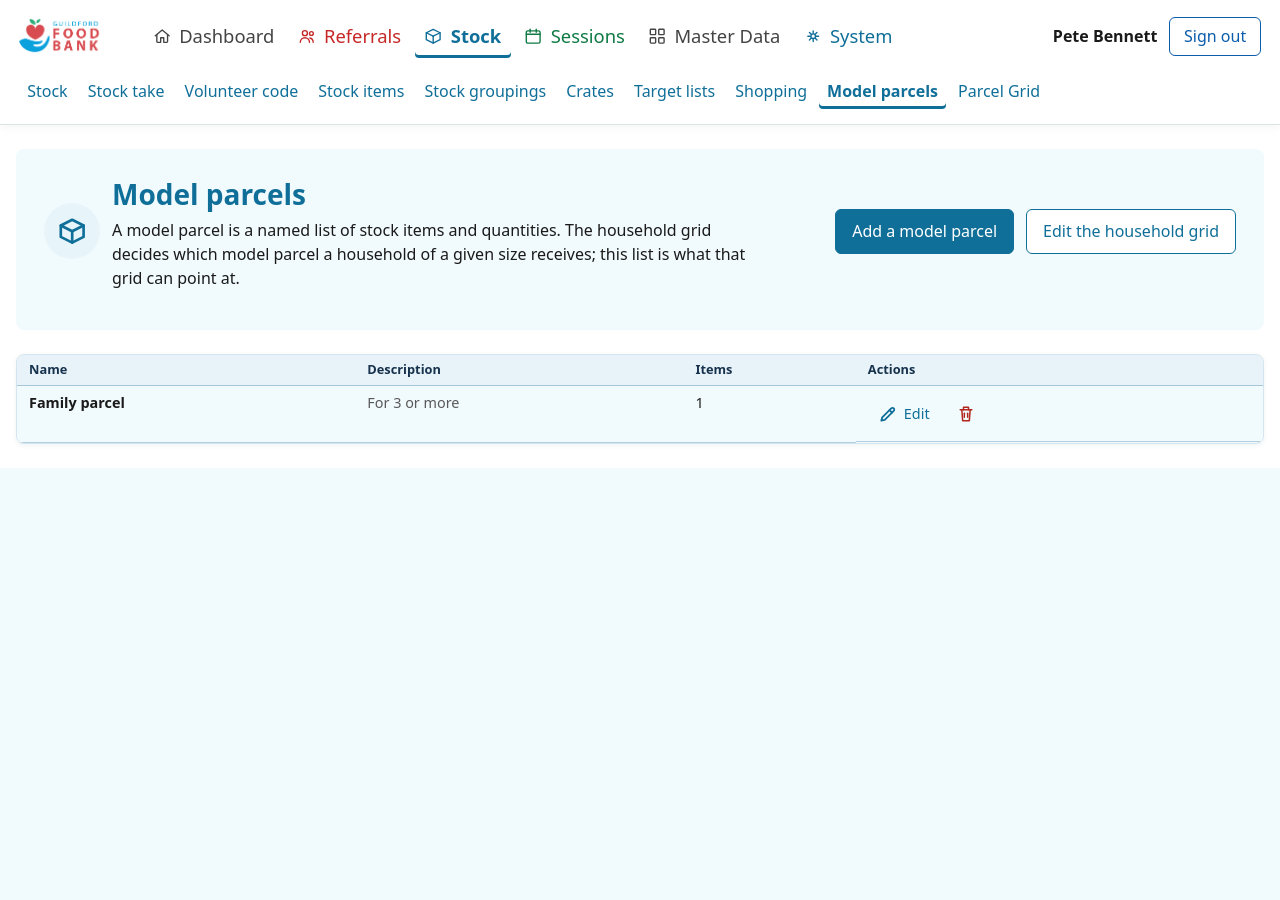
Scenario: the model parcels list › shows the server’s refusal verbatim when the grid still uses the parcel
This screenshot has width=1280, height=900.
Expected: the column heading "Family parcel" is shown, [17, 386, 355, 442]
Click the button named "Delete Family parcel".
click(966, 414)  # box [944, 392, 988, 436]
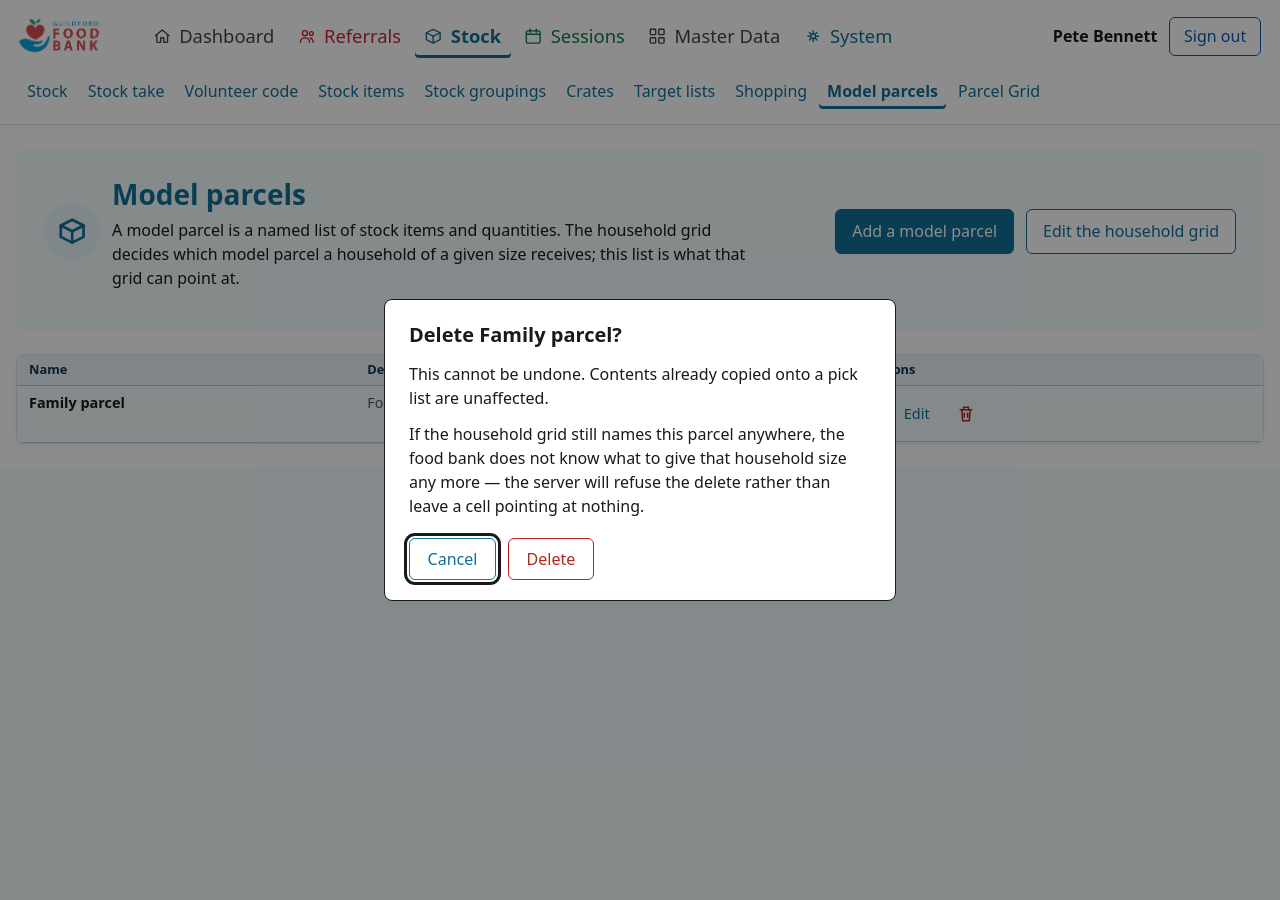
Click the button "Delete".
click(551, 559)  # box [508, 538, 594, 580]
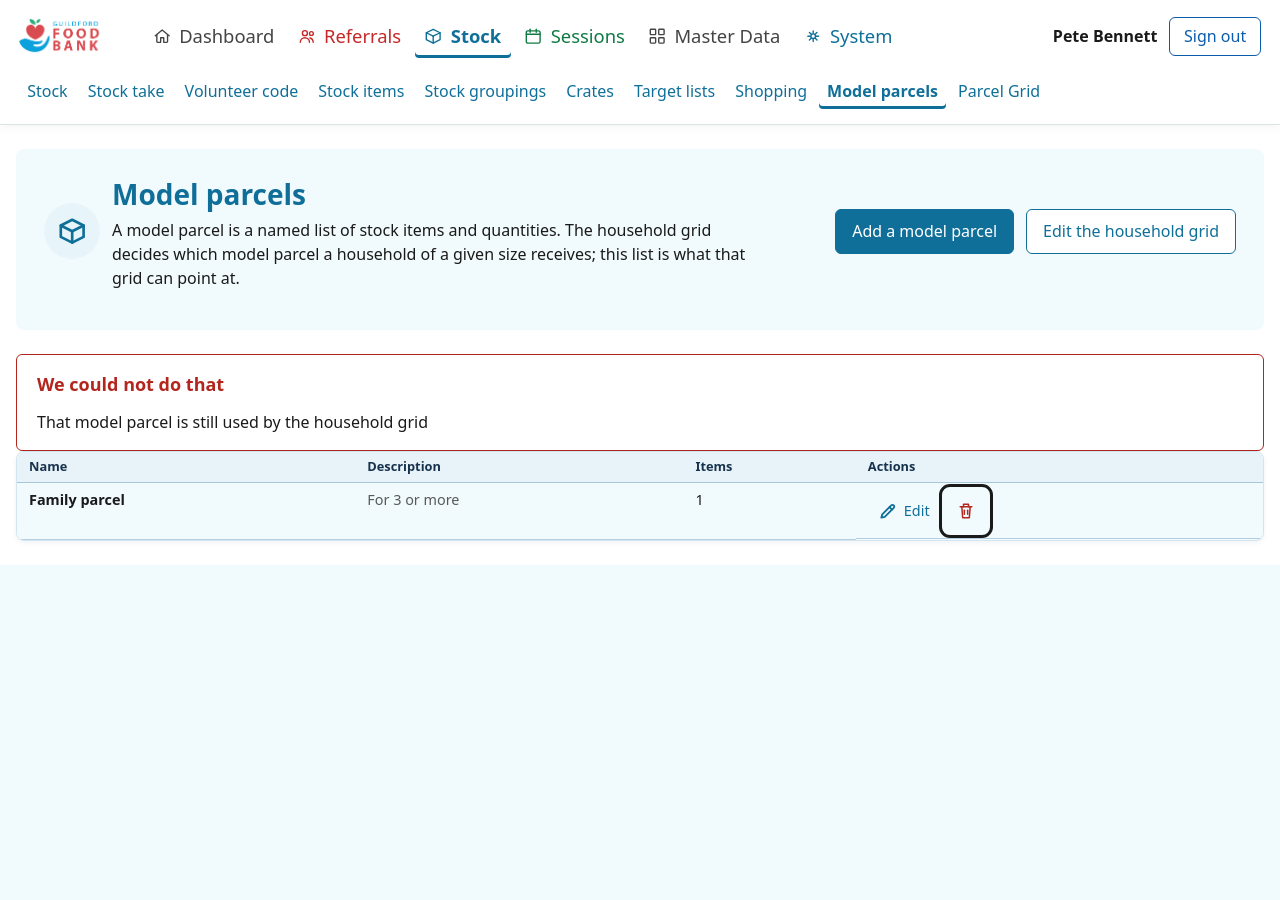
Expected: the column heading "Family parcel" is shown, [17, 483, 355, 539]
Expected: the message shows "That model parcel is still used by the household grid", [37, 411, 428, 433]
